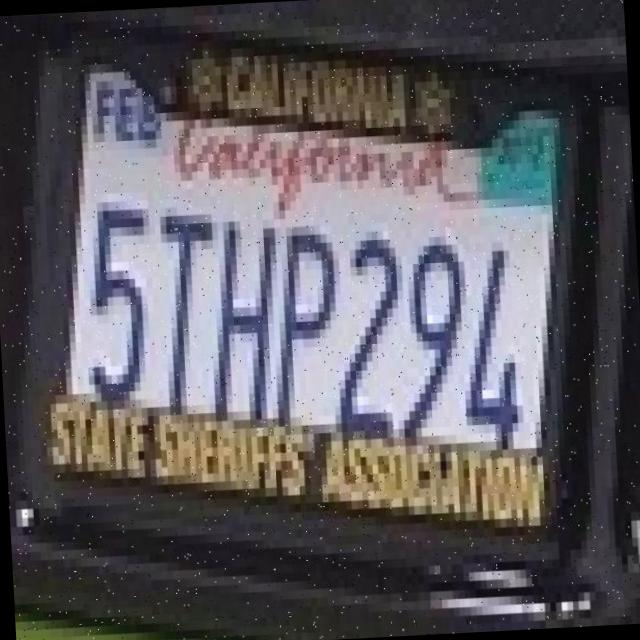LicensePlate: (0, 0, 632, 615)
